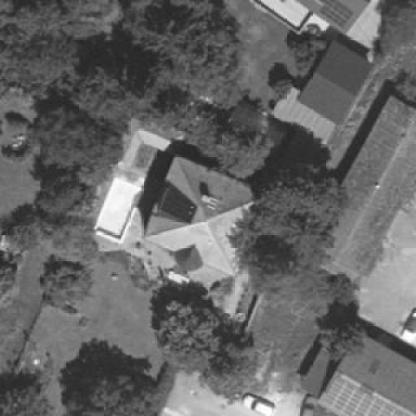solar-pv-panel: (323, 376, 409, 416), (319, 0, 354, 28)
